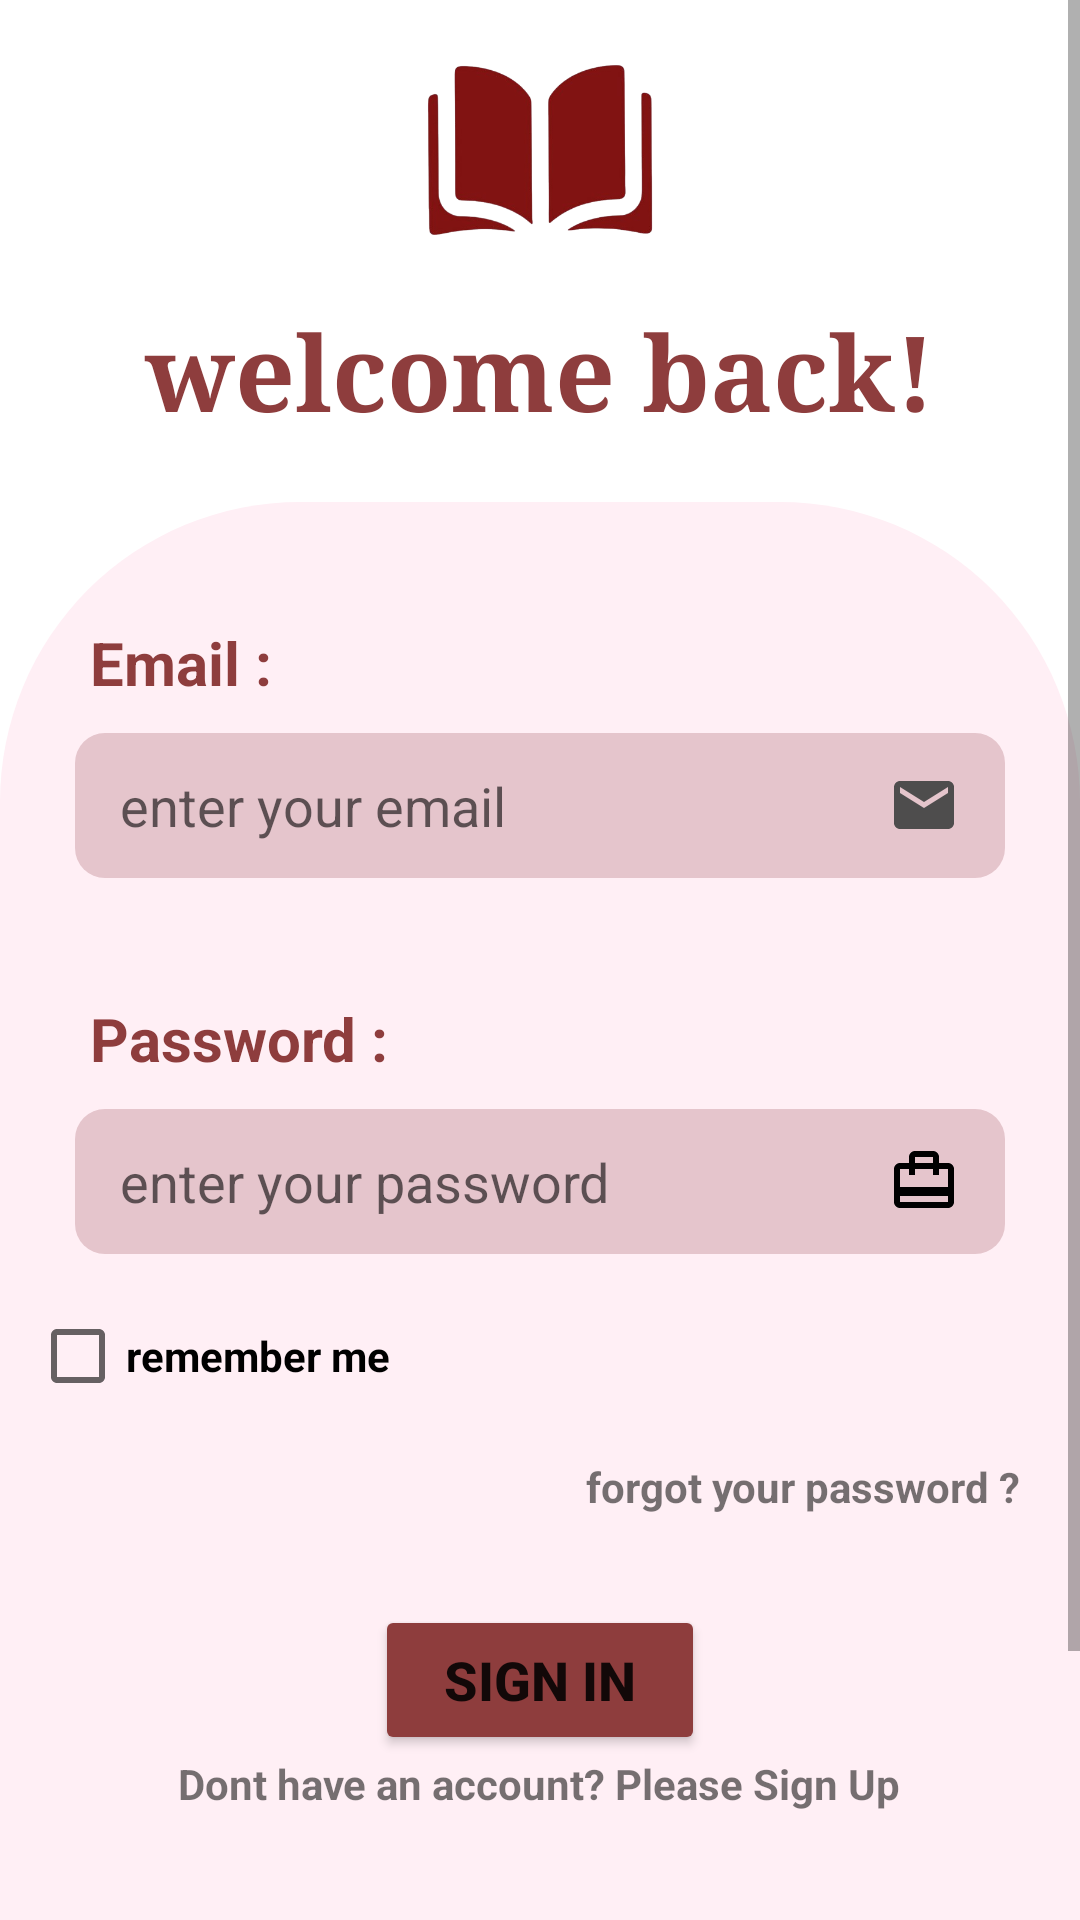

Point at icon controls on the screen. Image size 1080px x 1920px, points as (x,y).
book: (540,150)
